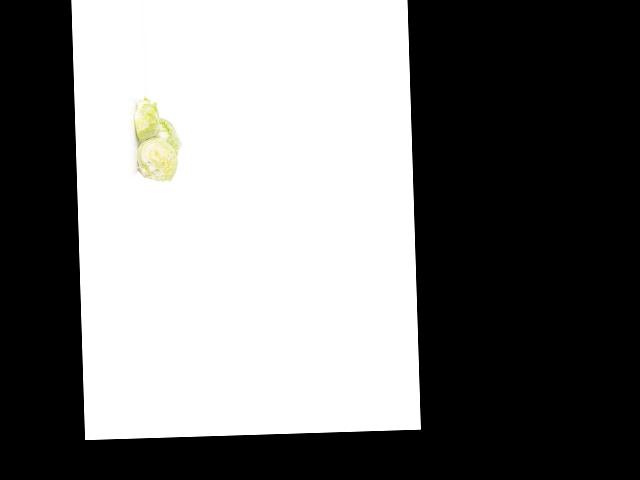lettuce: (151, 113, 183, 160)
